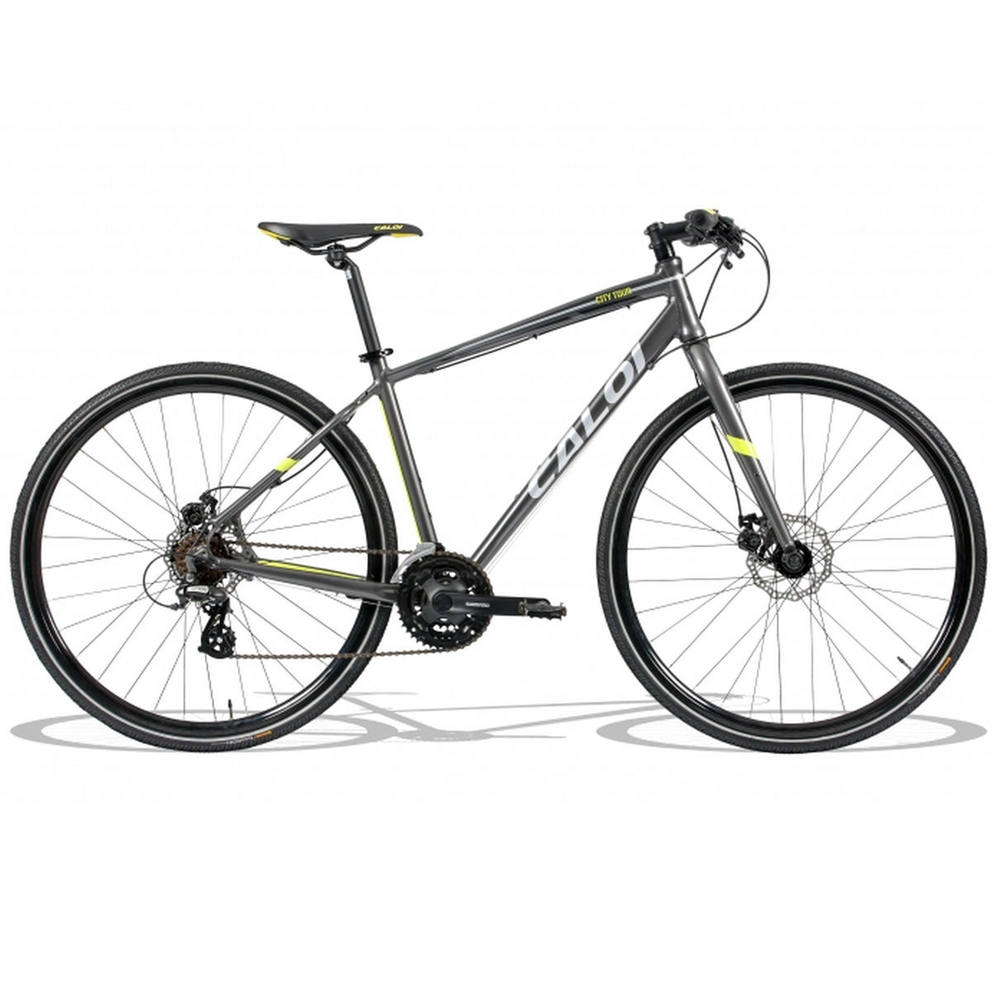RoadBike: (142, 199, 863, 793)
